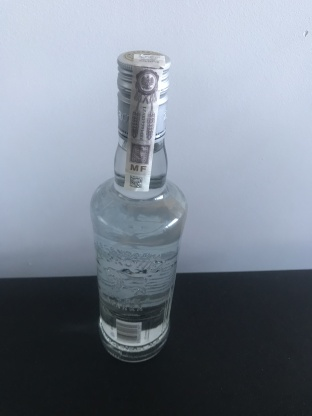nakretka: (114, 46, 173, 147)
